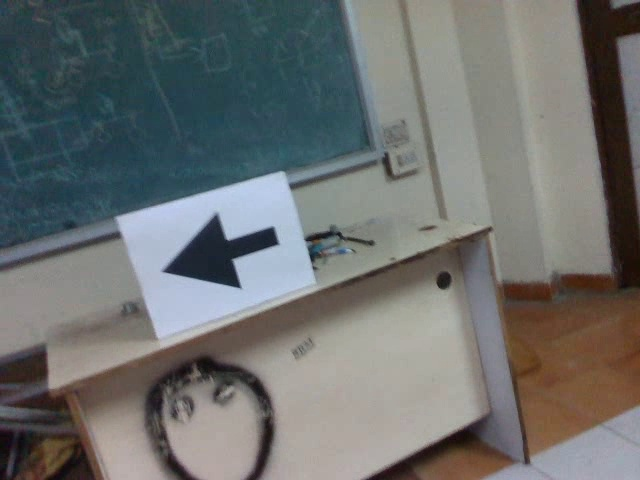Left: (157, 211, 279, 292)
